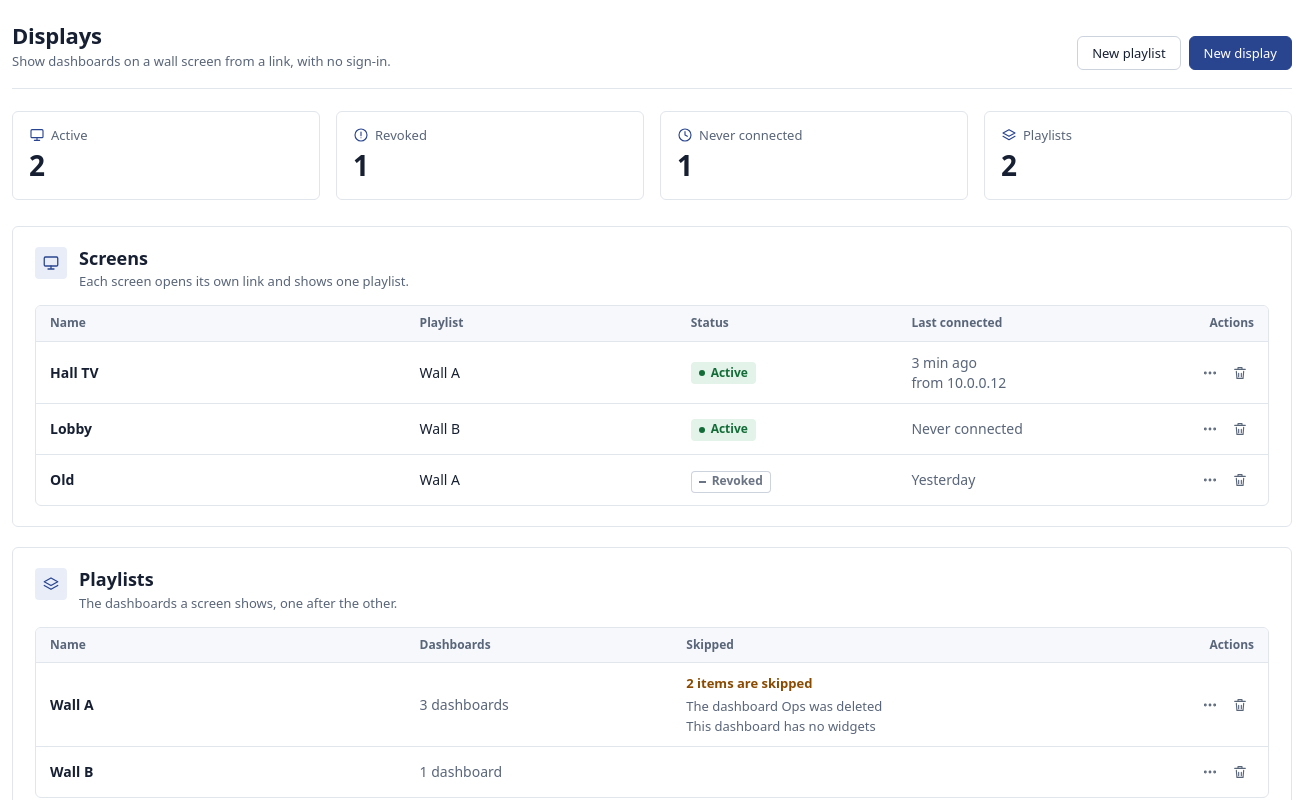
Test: DisplaysPage: the row menus › gives a screen Rename, Change playlist and Revoke in its menu and Delete as the trash button named for it
Expected: the cell "Hall TV" is shown, 36,342 -> 406,404
Click the button named "Actions for Hall TV".
click(1210, 373)  # box 1196,359 -> 1224,387
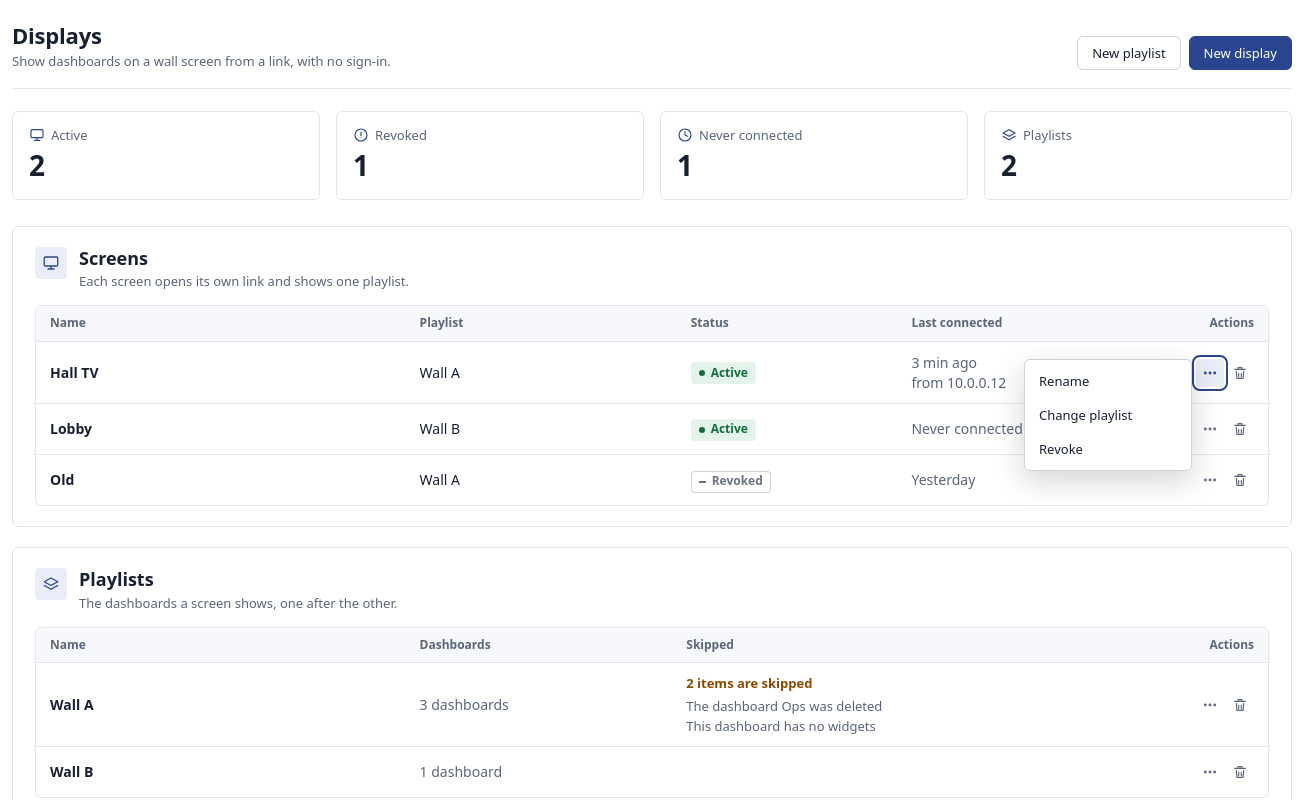
Expected: the menu items read "Rename", "Change playlist", "Revoke", in this order, 1029,364 -> 1187,398; 1029,398 -> 1187,432; 1029,432 -> 1187,466
